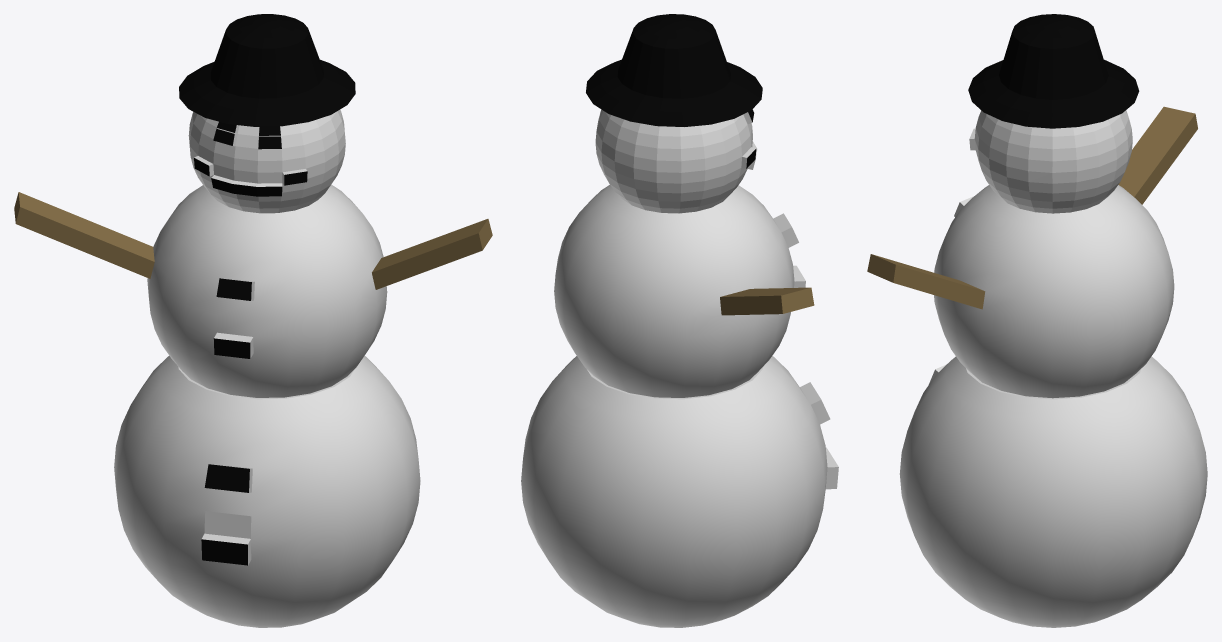
File: snowman.fbx
3 views of the same model, side by side, from view 1: azimuth 30°, elevation 25°; view 2: azimuth 150°, elevation 25°; view 3: azimuth 270°, elevation 25° (orthographic).
Parts seen in each view (by area): view 1: bottom, middle, top; view 2: bottom, middle, top; view 3: bottom, middle, top.
Boxes of the visible parts, x1,y1,x2,y2 form: bottom: (114, 355, 420, 627); middle: (14, 184, 492, 397); top: (179, 14, 355, 213); bottom: (521, 356, 838, 627); middle: (554, 185, 814, 397); top: (586, 14, 762, 213); bottom: (899, 356, 1207, 627); middle: (867, 106, 1197, 398); top: (968, 14, 1139, 213).
Size of the model in its own units: 0.9456 by 1.55 by 0.8183.
